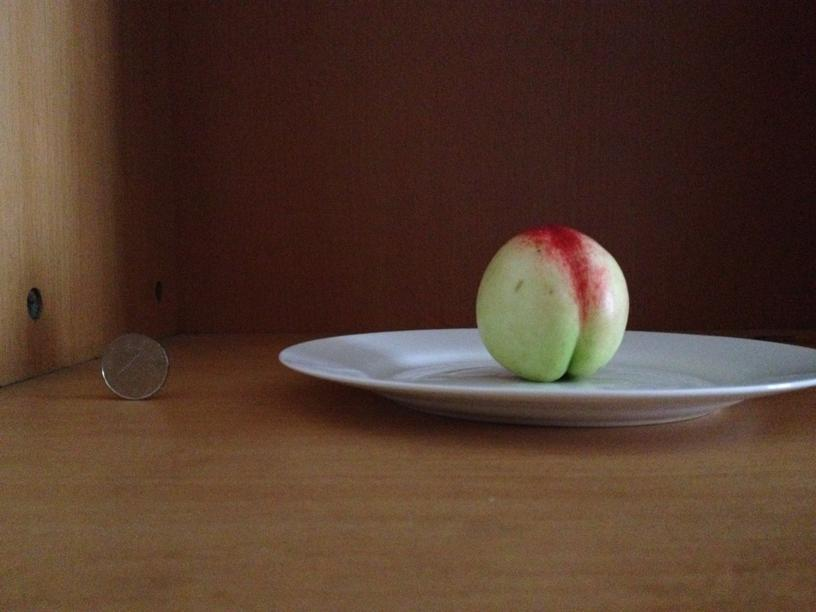coin: (98, 331, 170, 399)
peach: (470, 224, 632, 382)
